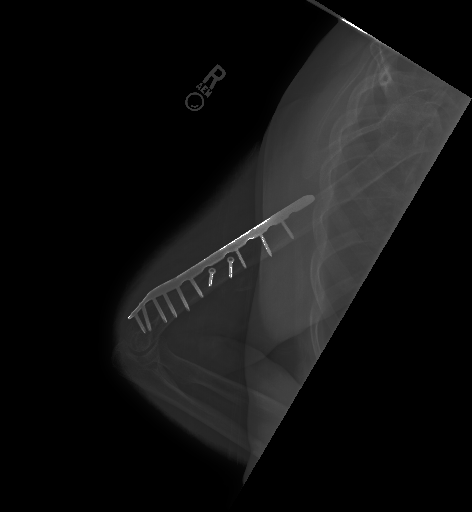implant: (220, 188, 318, 282), (128, 261, 206, 335)
